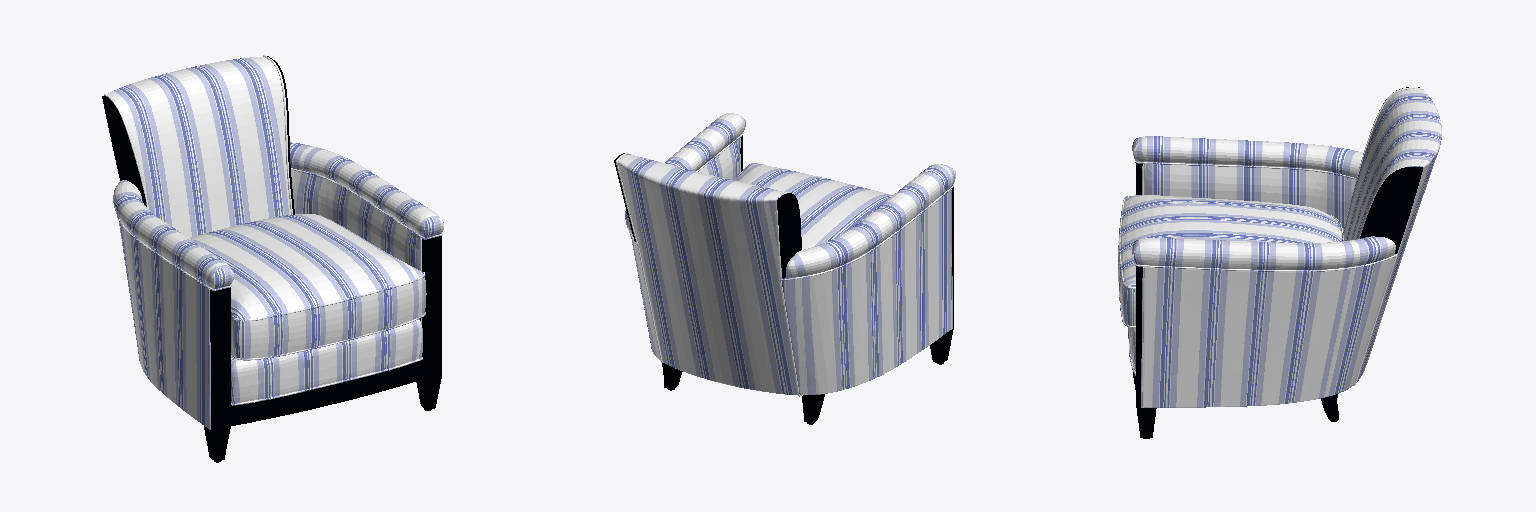
3 renders of one model, left to right at view 1: azimuth 30°, elevation 25°; view 2: azimuth 150°, elevation 25°; view 3: azimuth 270°, elevation 25°, orthographic.
Parts seen in each view (by area): view 1: rest, seat, frame, base; view 2: rest, seat, frame; view 3: rest, seat, frame.
Part boxes in pixels (bbox=[...]): rest: bbox=[104, 55, 443, 429]; seat: bbox=[190, 214, 426, 360]; frame: bbox=[102, 56, 441, 462]; base: bbox=[231, 319, 422, 405]; rest: bbox=[616, 113, 955, 396]; seat: bbox=[734, 163, 892, 249]; frame: bbox=[614, 136, 953, 424]; rest: bbox=[1132, 87, 1441, 407]; seat: bbox=[1118, 195, 1343, 327]; frame: bbox=[1132, 87, 1422, 438].
Bounding box in the file's own units: 0.725 × 0.7711 × 0.8703.
4 materials, 1 textured.